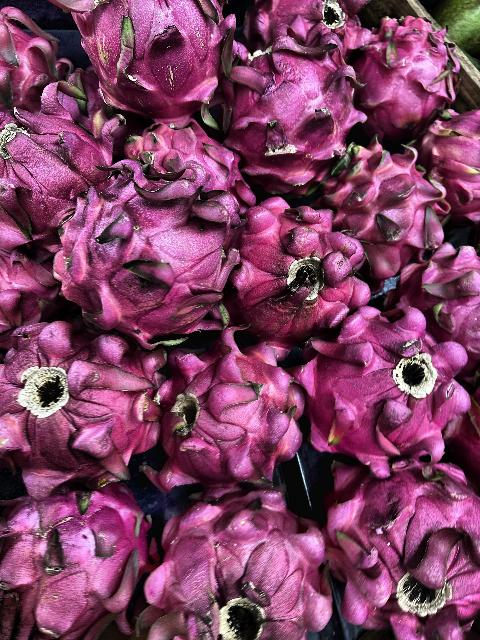buah-naga-matang: (64, 170, 230, 348), (0, 316, 168, 486), (322, 462, 480, 640), (148, 488, 332, 640), (296, 318, 472, 474), (1, 482, 156, 640), (150, 342, 310, 488), (61, 0, 248, 124), (227, 192, 372, 342), (226, 38, 356, 192), (0, 95, 128, 245), (315, 142, 449, 266), (119, 110, 259, 226), (363, 13, 458, 143), (384, 247, 480, 359), (412, 102, 480, 224), (237, 0, 370, 56)
